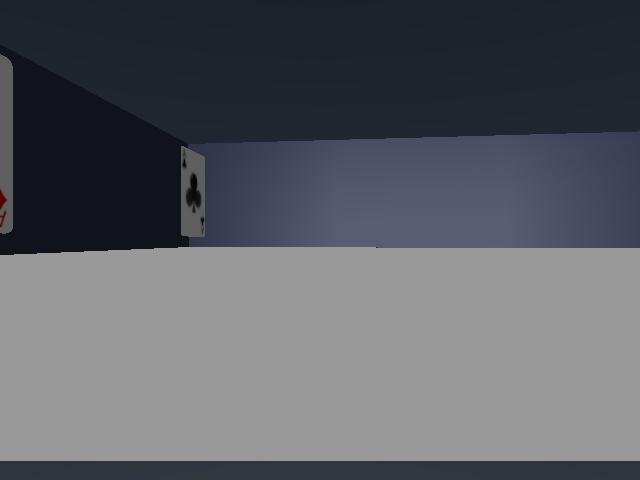club: (0, 55, 13, 234), (180, 147, 205, 236)
diamond: (0, 189, 7, 232)
